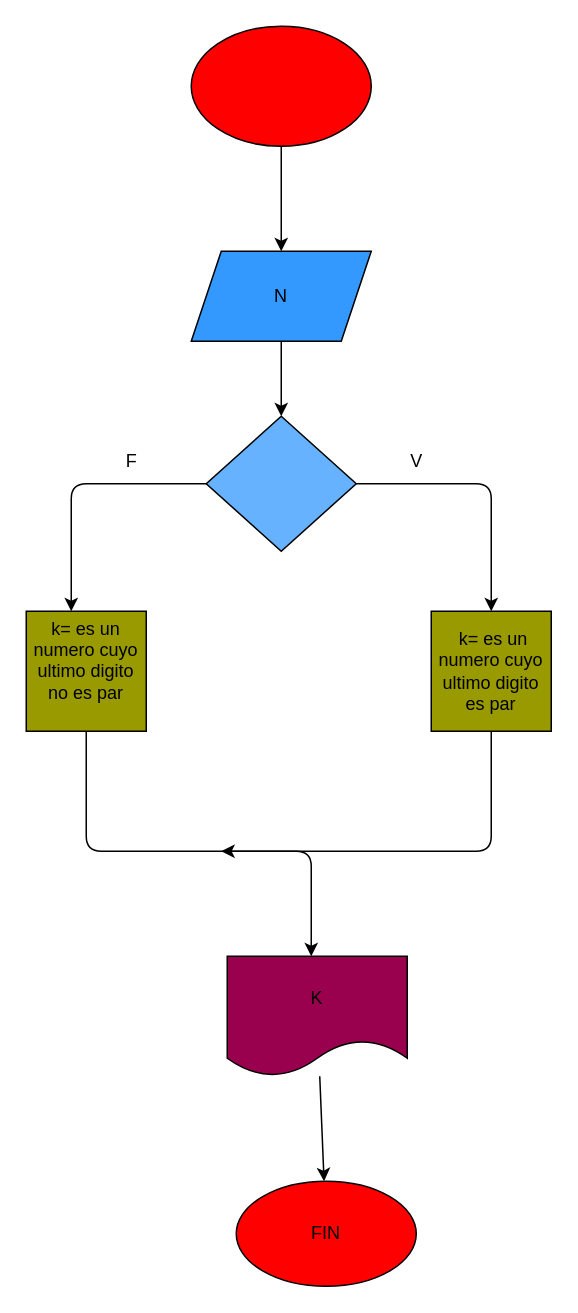
Some shapes in this 578 by 1313 pixel diagram are drawn without their labels. The box of each missing label's shape, as (x1, y1, x2, y2) in pixels:
INICIO: (190, 25, 371, 146)
n= (2%==0): (205, 415, 356, 551)
